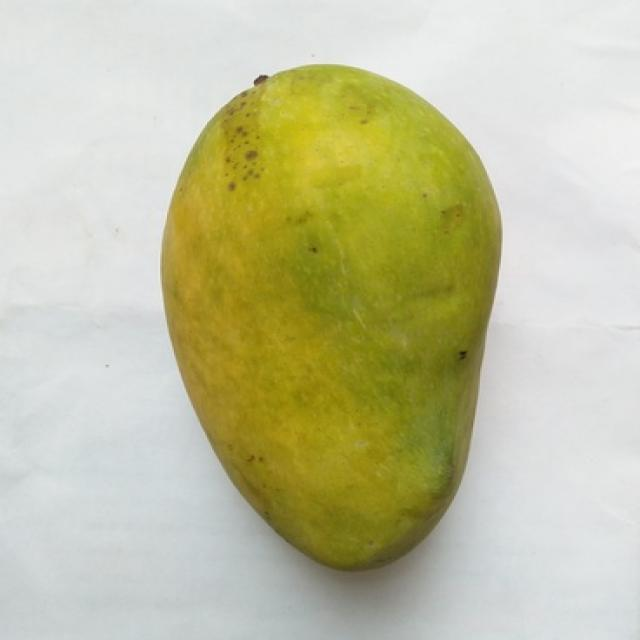Mango: (162, 66, 499, 569)
